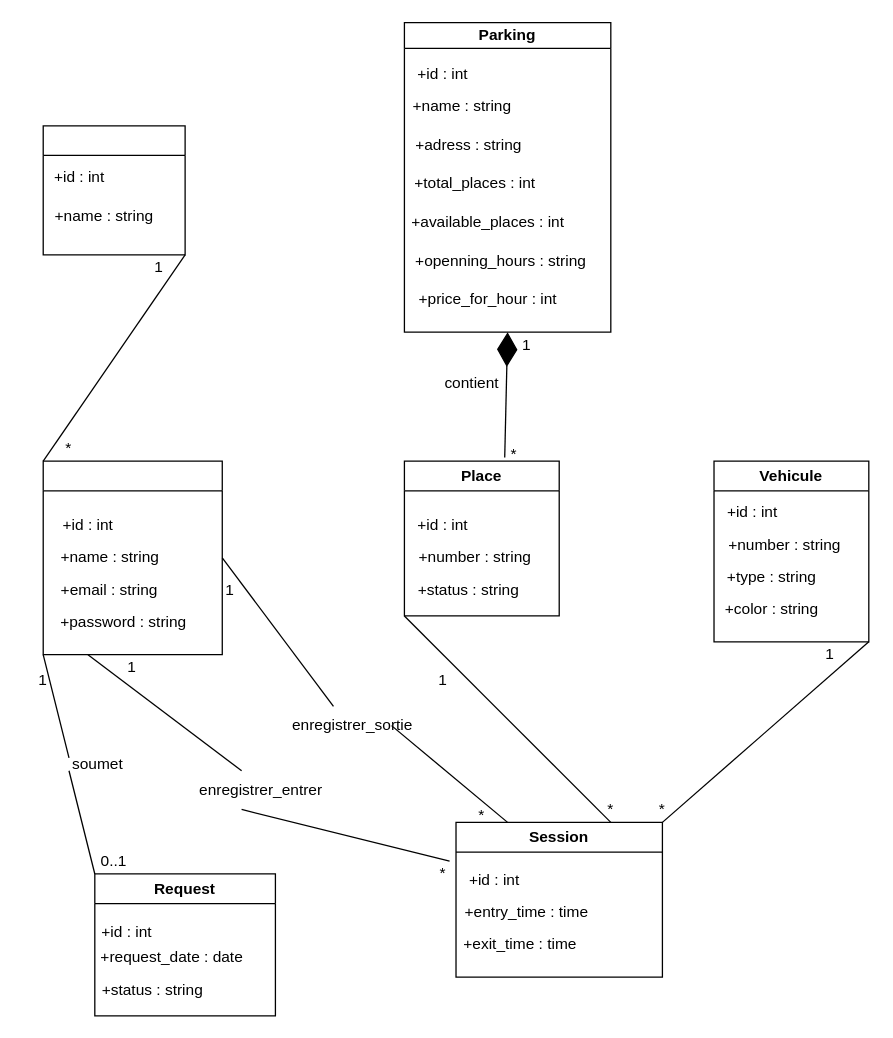
Image size: 893x1038. Some labels were removed from this diagram. Here are the shapes that lost their labels. From the top down, the box of each, then its label:
(42, 124, 185, 255): Role
(42, 460, 222, 655): User
